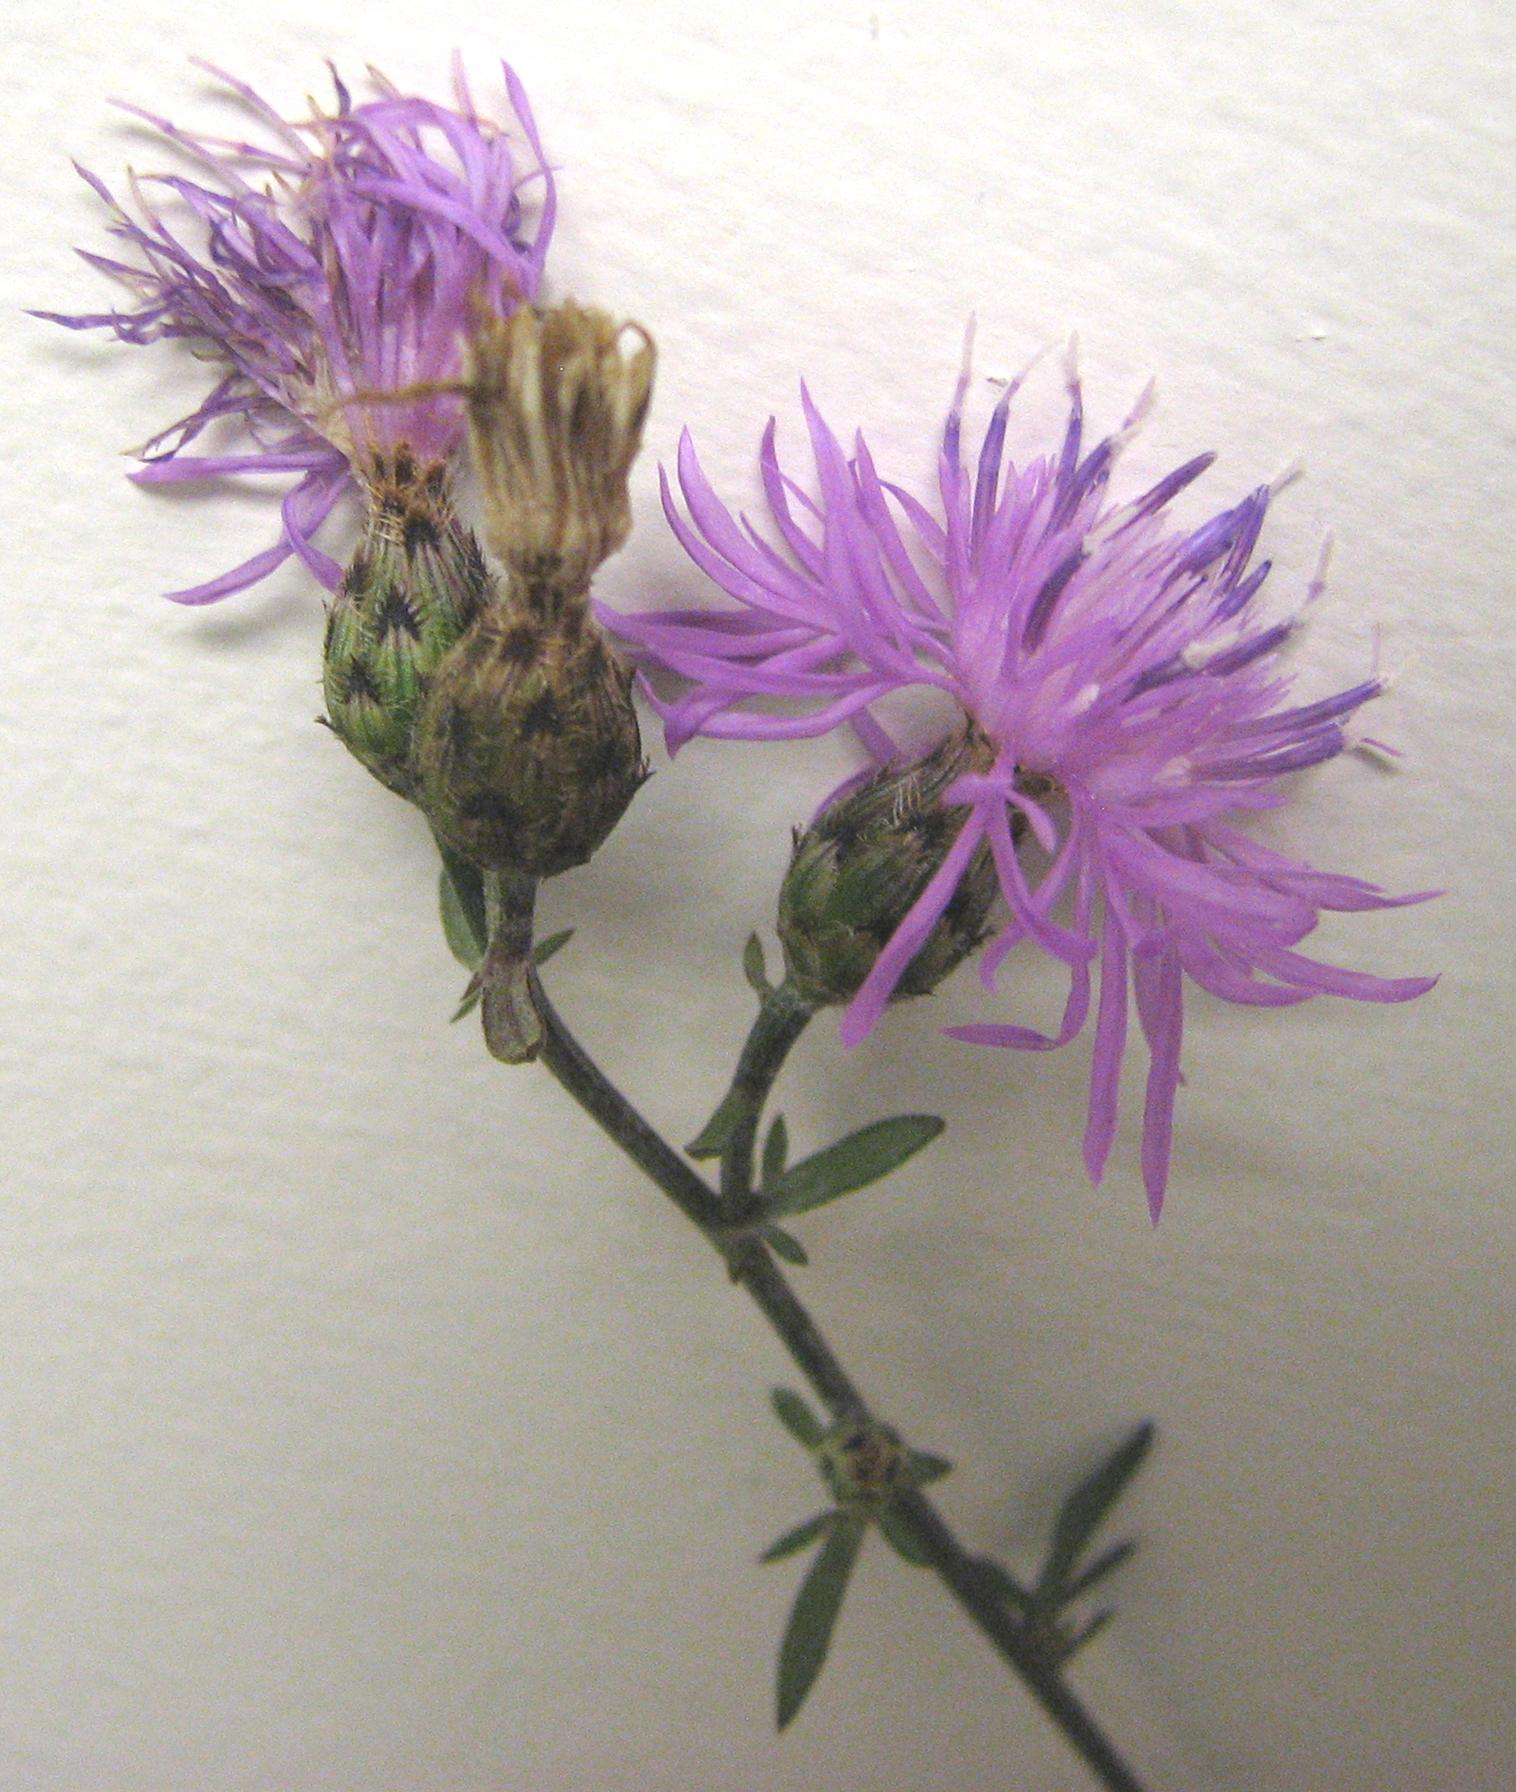thistle: (729, 394, 1406, 1164), (117, 87, 511, 827)
